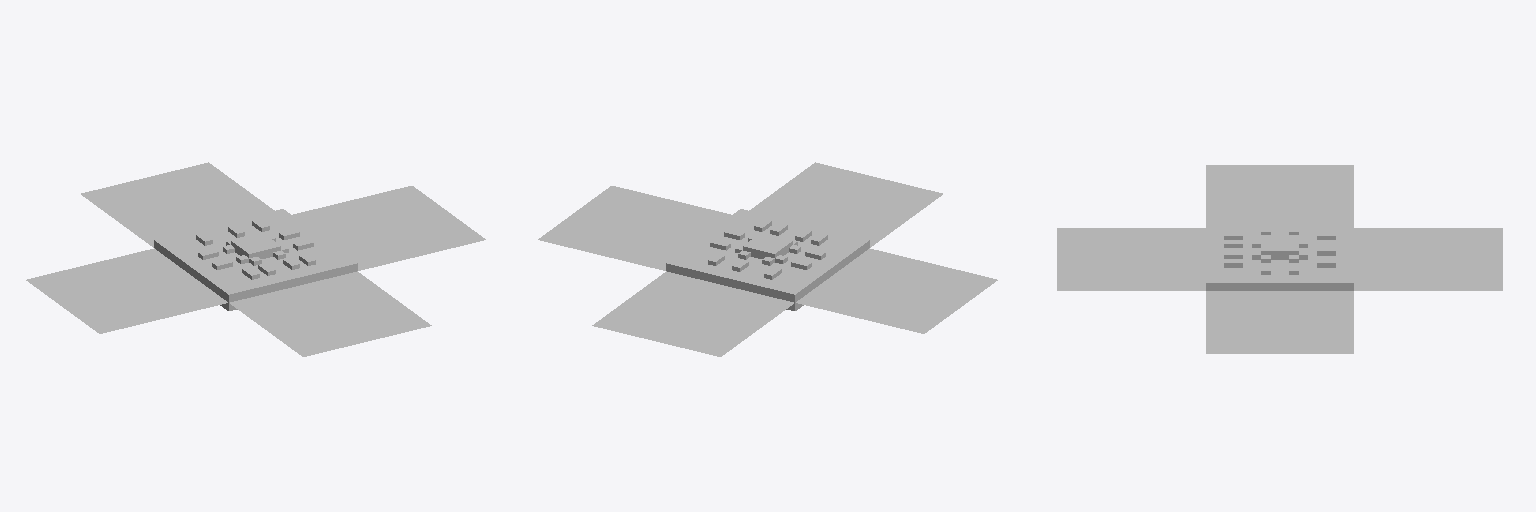
Rendered from code-node-nano.obj.
3 renders of one model, left to right at view 1: azimuth 30°, elevation 25°; view 2: azimuth 150°, elevation 25°; view 3: azimuth 270°, elevation 25°, orthographic.
Visible parts, largest first — view 1: south-dust, west-dust, east-dust, north-dust, pcb, smd; view 2: north-dust, west-dust, east-dust, south-dust, pcb, smd; view 3: north-dust, south-dust, east-dust, west-dust, pcb, smd.
Part boxes in pixels (x1,y1,x2,y2): south-dust: (230, 271, 431, 356); west-dust: (26, 248, 227, 333); east-dust: (292, 186, 485, 270); north-dust: (81, 162, 274, 247); pcb: (154, 209, 357, 310); smd: (196, 219, 315, 279); north-dust: (592, 271, 793, 356); west-dust: (796, 248, 997, 333); east-dust: (538, 186, 731, 270); south-dust: (749, 162, 942, 247); pcb: (666, 209, 869, 310); smd: (708, 219, 827, 279); north-dust: (1354, 228, 1502, 290); south-dust: (1057, 228, 1205, 290); east-dust: (1206, 291, 1353, 353); west-dust: (1206, 165, 1353, 219); pcb: (1206, 220, 1353, 290); smd: (1224, 224, 1335, 274).
Bounding box in the file's own units: 3 × 0.1875 × 3.